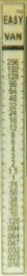number: (6, 239, 21, 247), (6, 253, 21, 261), (6, 58, 20, 66), (6, 217, 20, 225), (6, 261, 21, 268), (6, 66, 20, 73), (6, 73, 20, 80), (6, 225, 20, 232), (6, 232, 20, 239), (7, 80, 19, 88), (8, 181, 20, 189), (6, 247, 21, 253), (8, 110, 19, 118), (8, 167, 19, 175), (9, 203, 20, 211), (8, 189, 20, 196), (8, 196, 19, 203), (9, 124, 18, 132), (8, 211, 20, 217), (8, 95, 18, 102), (8, 103, 18, 110), (8, 117, 18, 124), (8, 88, 19, 94), (9, 132, 17, 139), (10, 160, 17, 168), (10, 139, 17, 146), (10, 153, 16, 160), (10, 146, 15, 153), (11, 174, 16, 181)
